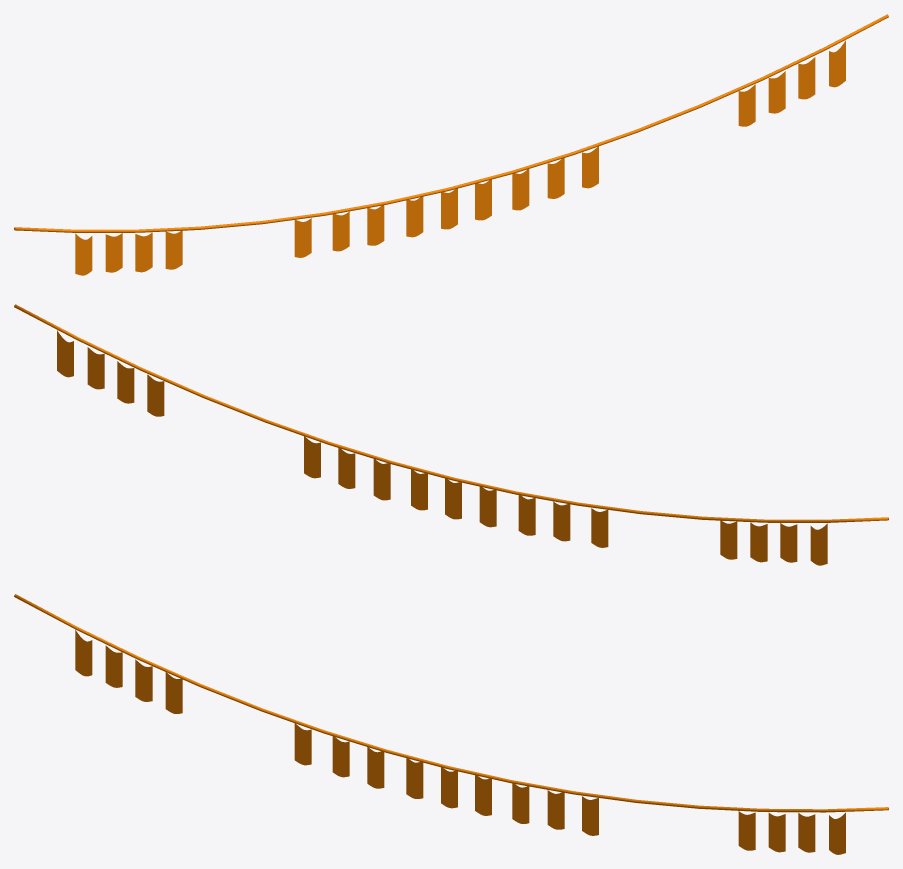
Rendered from SM_Fanion_5.fbx.
3 views of the same model, one above another, from view 1: azimuth 30°, elevation 25°; view 2: azimuth 150°, elevation 25°; view 3: azimuth 330°, elevation 25° (orthographic).
Parts seen in each view (by area): view 1: Corde_01_l, Drapeau_10_l, Drapeau_04_l, Drapeau_05_l, Drapeau_02_l, Drapeau_11_l, Drapeau_13_l, Drapeau_15_l, Drapeau_17_l, Drapeau_07_l, Drapeau_12_l, Drapeau_16_l (+6 smaller); view 2: Corde_01_l, Drapeau_10_l, Drapeau_04_l, Drapeau_05_l, Drapeau_02_l, Drapeau_11_l, Drapeau_13_l, Drapeau_15_l, Drapeau_17_l, Drapeau_07_l, Drapeau_12_l, Drapeau_16_l (+6 smaller); view 3: Corde_01_l, Drapeau_10_l, Drapeau_04_l, Drapeau_05_l, Drapeau_02_l, Drapeau_13_l, Drapeau_17_l, Drapeau_12_l, Drapeau_15_l, Drapeau_16_l, Drapeau_07_l, Drapeau_08_l (+6 smaller).
Part boxes in pixels (x1,y1,x2,y2): Corde_01_l: [14, 14, 888, 232]; Drapeau_10_l: [75, 233, 92, 275]; Drapeau_04_l: [512, 169, 529, 210]; Drapeau_05_l: [367, 205, 384, 245]; Drapeau_02_l: [406, 196, 423, 237]; Drapeau_11_l: [165, 230, 182, 269]; Drapeau_13_l: [105, 233, 122, 272]; Drapeau_15_l: [738, 84, 755, 126]; Drapeau_17_l: [798, 57, 815, 99]; Drapeau_07_l: [294, 218, 311, 257]; Drapeau_12_l: [135, 232, 152, 272]; Drapeau_16_l: [768, 71, 785, 113]; Corde_01_l: [14, 304, 888, 522]; Drapeau_10_l: [810, 523, 827, 565]; Drapeau_04_l: [373, 459, 390, 500]; Drapeau_05_l: [518, 495, 535, 535]; Drapeau_02_l: [479, 486, 496, 527]; Drapeau_11_l: [720, 520, 737, 559]; Drapeau_13_l: [780, 523, 797, 562]; Drapeau_15_l: [147, 374, 164, 416]; Drapeau_17_l: [87, 347, 104, 389]; Drapeau_07_l: [591, 508, 608, 547]; Drapeau_12_l: [750, 522, 767, 562]; Drapeau_16_l: [117, 361, 134, 403]; Corde_01_l: [14, 594, 888, 812]; Drapeau_10_l: [75, 630, 92, 676]; Drapeau_04_l: [512, 783, 529, 823]; Drapeau_05_l: [367, 747, 384, 788]; Drapeau_02_l: [406, 758, 423, 798]; Drapeau_13_l: [105, 645, 122, 687]; Drapeau_17_l: [798, 813, 815, 852]; Drapeau_12_l: [135, 659, 152, 701]; Drapeau_15_l: [738, 811, 755, 850]; Drapeau_16_l: [768, 812, 785, 852]; Drapeau_07_l: [294, 723, 311, 765]; Drapeau_08_l: [547, 790, 564, 829].
Bounding box in the file's own units: 762 × 89.88 × 2.5.
